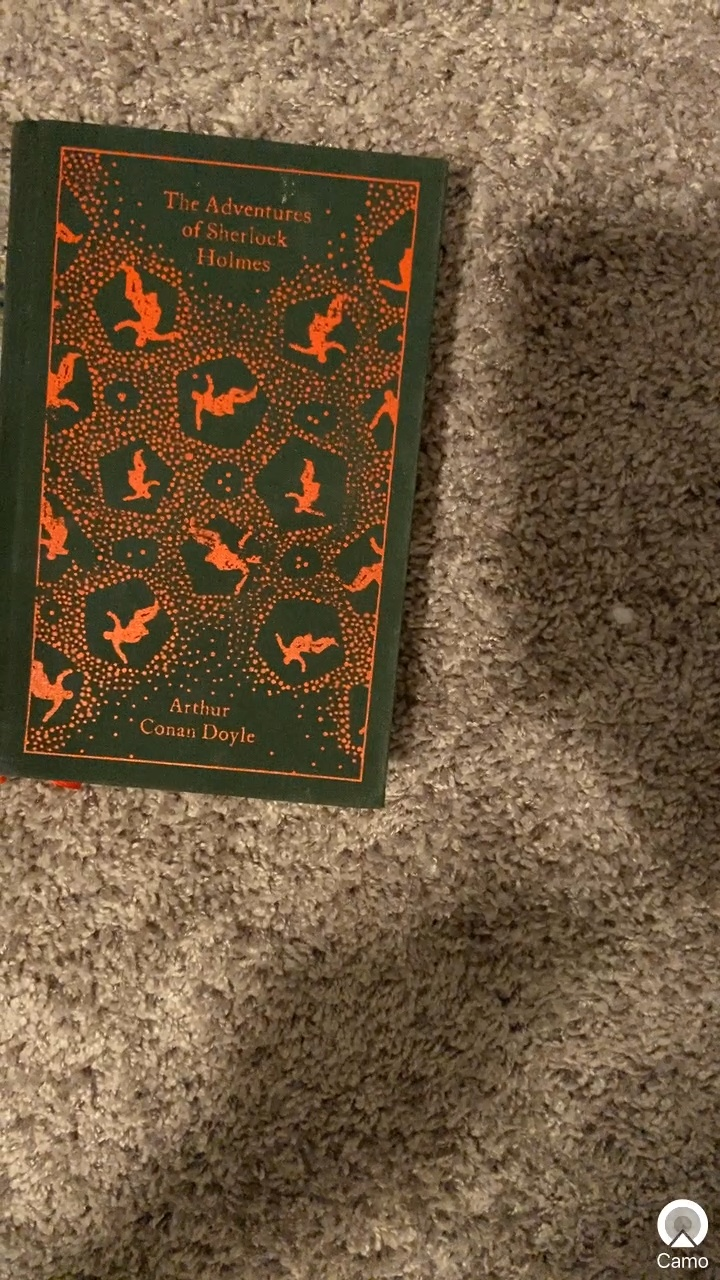Book: (1, 107, 515, 830)
